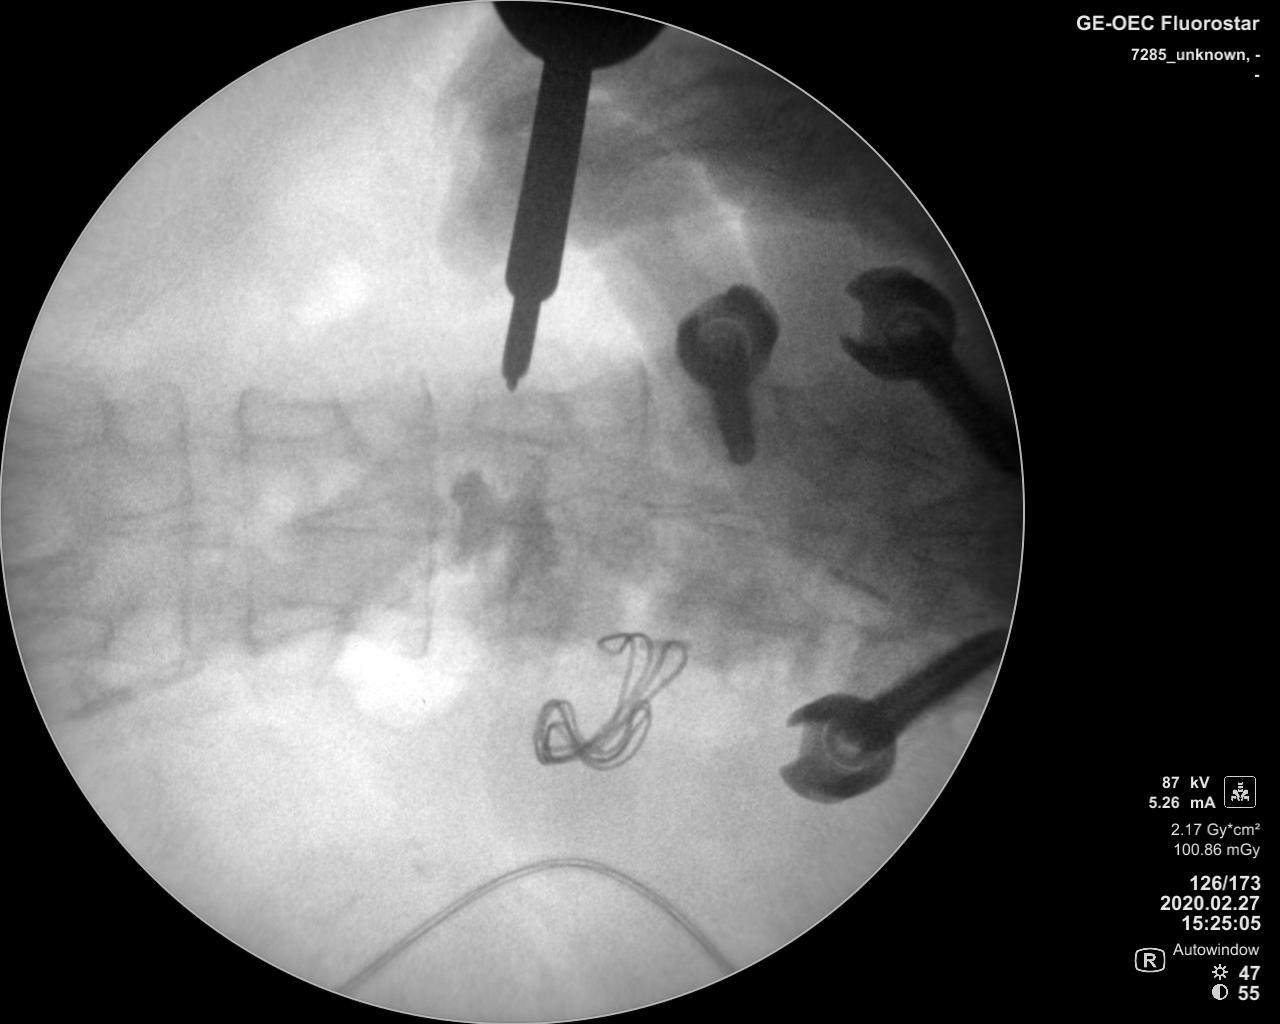eyes: (13, 381, 116, 453), (232, 386, 345, 444), (16, 608, 119, 659), (241, 602, 350, 650), (465, 389, 558, 437)
line: (165, 379, 197, 657), (408, 369, 437, 659), (231, 385, 258, 659)
nose: (488, 489, 653, 545), (289, 491, 450, 546), (92, 501, 215, 552)
